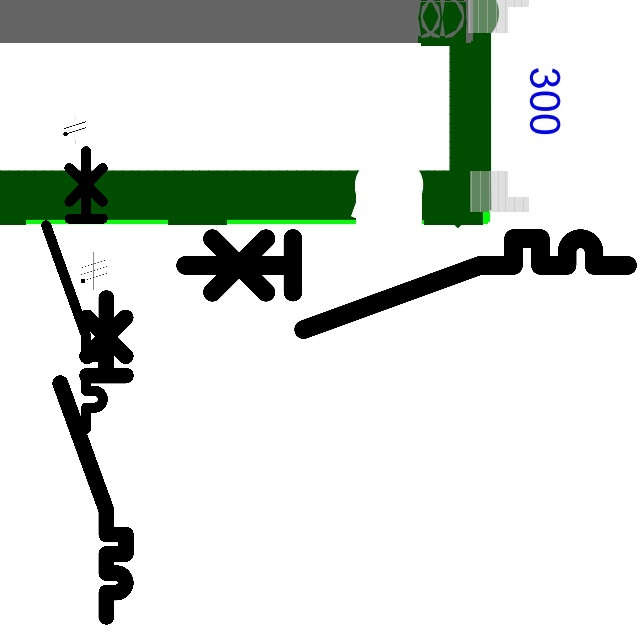interruptor_termomagnetico: (174, 227, 639, 340), (52, 289, 134, 624), (39, 144, 110, 436)
